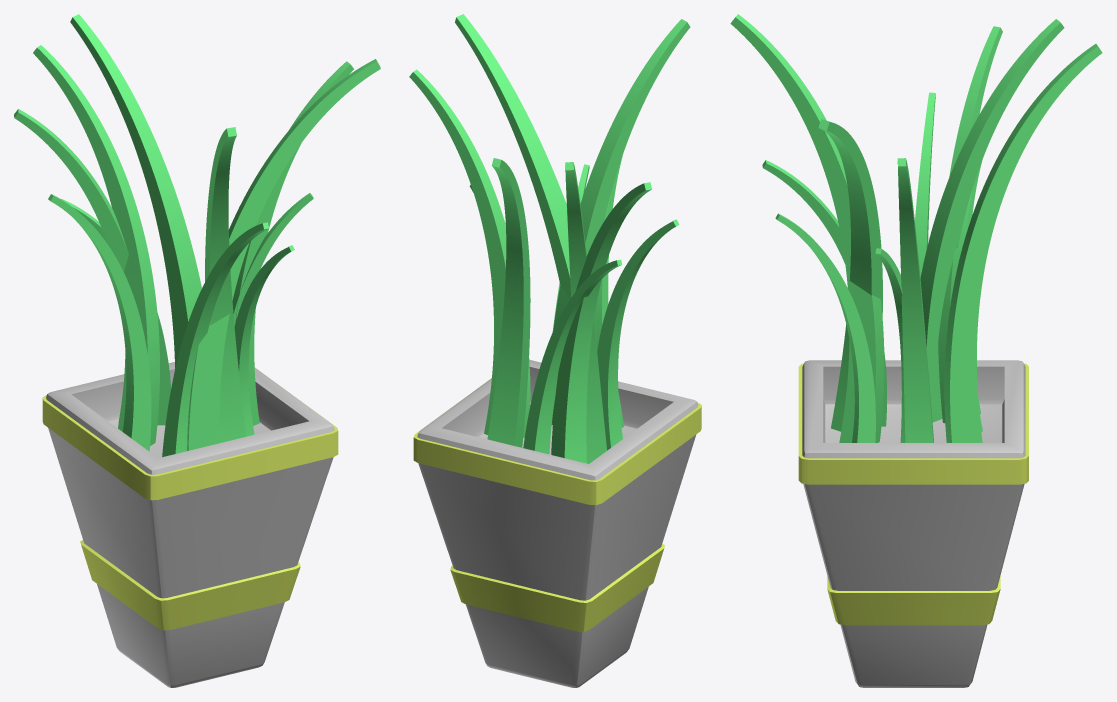
The model's file is Asset019_Vasodeplanta.fbx.
3 renders of one model, left to right at view 1: azimuth 30°, elevation 25°; view 2: azimuth 150°, elevation 25°; view 3: azimuth 270°, elevation 25°, orthographic. The views are drawn at different scales.
Parts seen in each view (by area): view 1: Vaso, Plane_6, Plane_1, Plane_9, Plane_5, Plane_8, Plane_7, Plane_10, Plane_2, Plane_4, Plane_3, Plane_0; view 2: Vaso, Plane_1, Plane_10, Plane_6, Plane_5, Plane_2, Plane_8, Plane_0, Plane_9, Plane_7; view 3: Vaso, Plane_1, Plane_9, Plane_5, Plane_2, Plane_6, Plane_4, Plane_10, Plane_8, Plane_7, Plane_3, Plane_0.
Boxes of the visible parts, bbox=[...] form: Vaso: bbox=[42, 362, 338, 687]; Plane_6: bbox=[187, 59, 380, 450]; Plane_1: bbox=[70, 14, 201, 368]; Plane_9: bbox=[33, 45, 159, 445]; Plane_5: bbox=[205, 127, 246, 442]; Plane_8: bbox=[48, 194, 151, 451]; Plane_7: bbox=[162, 222, 268, 457]; Plane_10: bbox=[14, 109, 128, 422]; Plane_2: bbox=[232, 61, 353, 425]; Plane_4: bbox=[234, 245, 294, 436]; Plane_3: bbox=[233, 193, 313, 325]; Plane_0: bbox=[61, 199, 170, 425]; Vaso: bbox=[413, 359, 701, 687]; Plane_1: bbox=[487, 158, 530, 447]; Plane_10: bbox=[551, 182, 651, 463]; Plane_6: bbox=[455, 14, 624, 427]; Plane_5: bbox=[552, 19, 690, 425]; Plane_2: bbox=[409, 69, 506, 434]; Plane_8: bbox=[597, 219, 679, 450]; Plane_0: bbox=[523, 259, 622, 454]; Plane_9: bbox=[565, 162, 607, 463]; Plane_7: bbox=[594, 155, 622, 434]; Vaso: bbox=[798, 360, 1028, 687]; Plane_1: bbox=[944, 44, 1102, 442]; Plane_9: bbox=[920, 19, 1064, 422]; Plane_5: bbox=[730, 14, 884, 442]; Plane_2: bbox=[897, 158, 933, 442]; Plane_6: bbox=[818, 119, 882, 431]; Plane_4: bbox=[775, 213, 875, 442]; Plane_10: bbox=[938, 26, 1002, 423]; Plane_8: bbox=[915, 92, 935, 277]; Plane_7: bbox=[762, 160, 887, 426]; Plane_3: bbox=[875, 248, 905, 442]; Plane_0: bbox=[950, 161, 982, 432].
Bounding box in the file's own units: 110 × 218 × 117.
